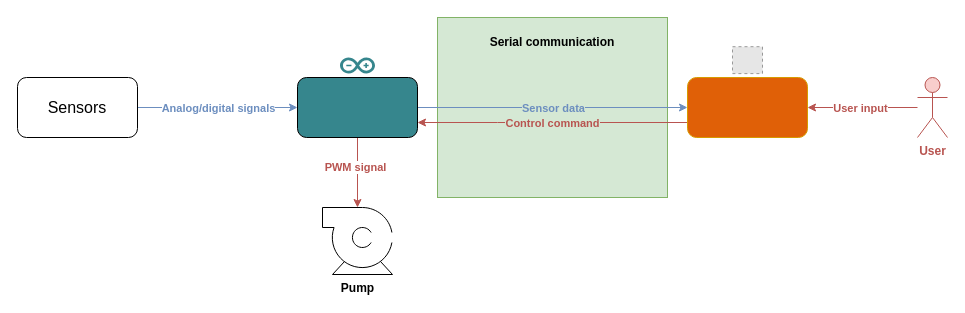
Some shapes in this 965 by 313 pixel diagram are drawn without their labels. Grey dashed boxes stand in for pictures. Here are the shapes that lost their labels. From the top down, the box of each, then its label:
(296, 76, 418, 138): Arduino
(686, 76, 808, 138): MATLAB UI
